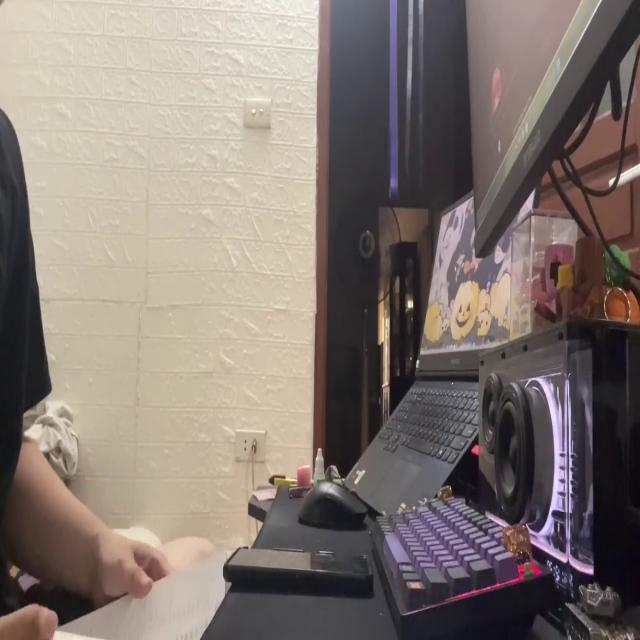book: (56, 544, 236, 640)
laptop: (336, 168, 543, 529), (459, 0, 640, 250)
phone: (223, 539, 378, 602)
student: (0, 106, 238, 640)
